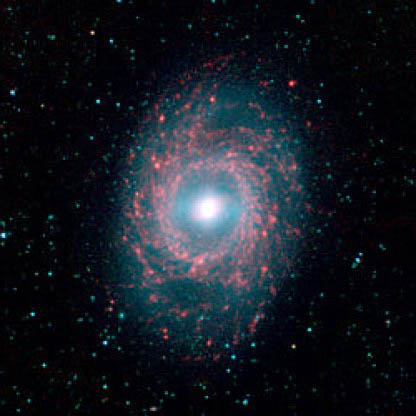Messier 95: (99, 48, 323, 364)
